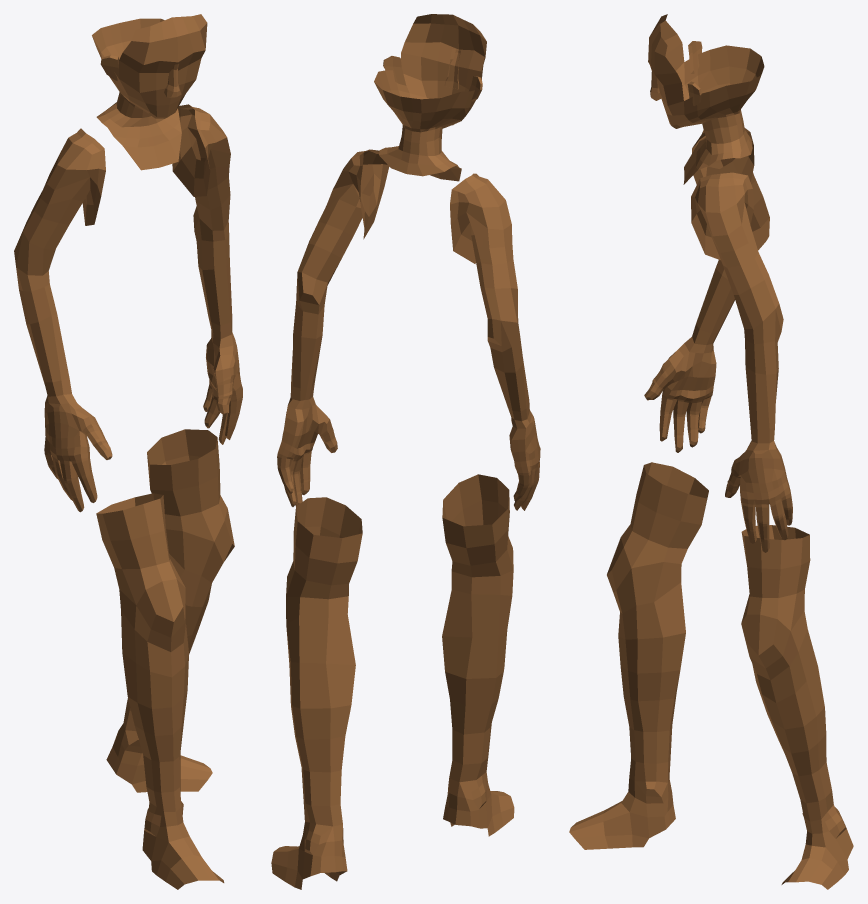
The model's file is Skin_010.obj.
3 renders of one model, left to right at view 1: azimuth 30°, elevation 25°; view 2: azimuth 150°, elevation 25°; view 3: azimuth 270°, elevation 25°, orthographic. The views are drawn at different scales.
Bounding box in the file's own units: 0.487 × 1.71 × 0.536.
